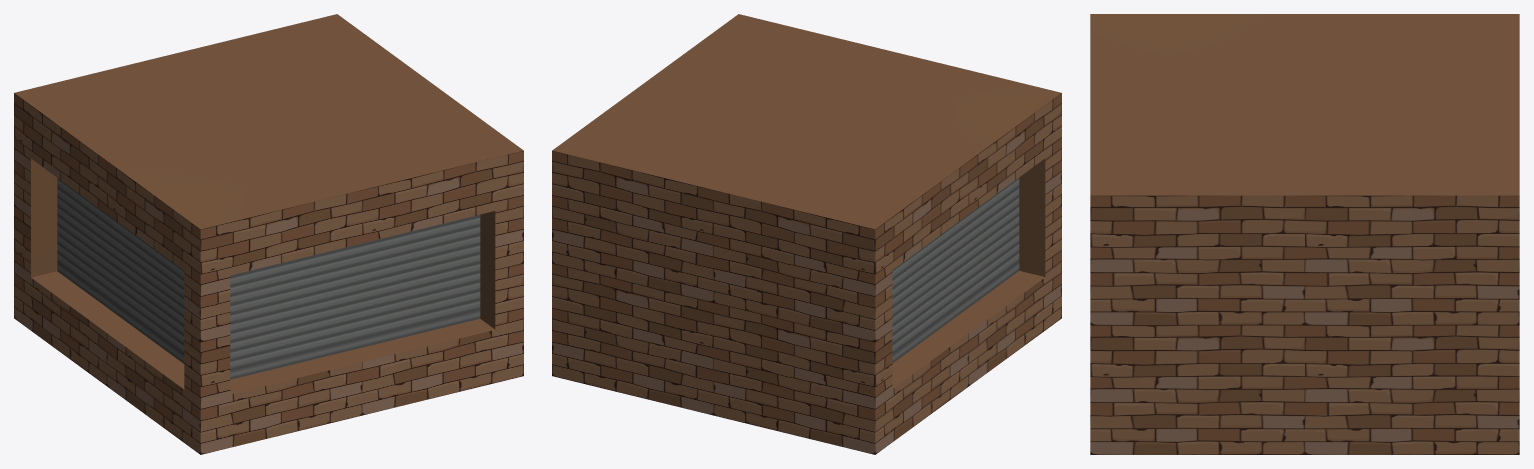
Rendered from Bock_A2.fbx.
3 views of the same model, side by side, from view 1: azimuth 30°, elevation 25°; view 2: azimuth 150°, elevation 25°; view 3: azimuth 270°, elevation 25° (orthographic). The views are drawn at different scales.
Parts seen in each view (by area): view 1: Bock_A2; view 2: Bock_A2; view 3: Bock_A2.
Boxes of the visible parts, x1=… form: Bock_A2: x1=14, y1=14, x2=523, y2=454; Bock_A2: x1=552, y1=14, x2=1061, y2=454; Bock_A2: x1=1090, y1=14, x2=1519, y2=454.
Bounding box in the file's own units: 600 × 400 × 600.
